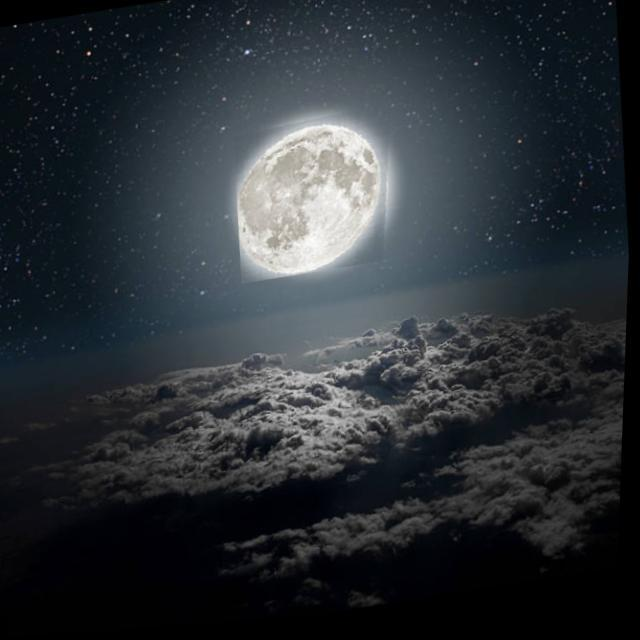moon: (230, 108, 404, 288)
